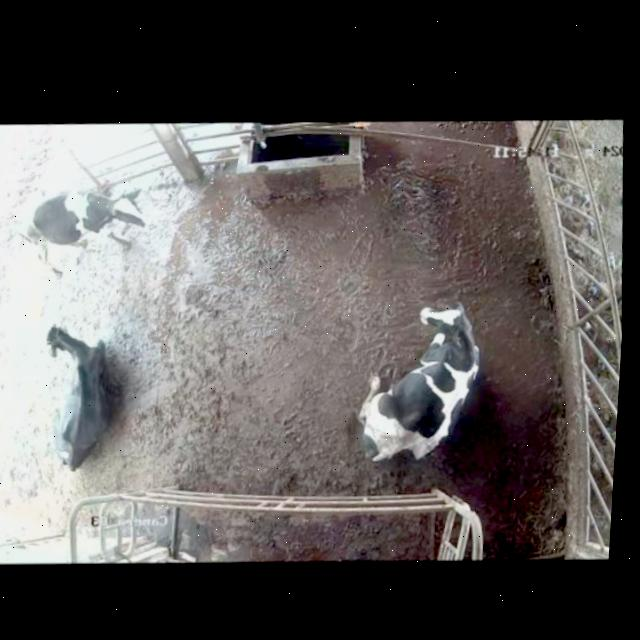lay: (321, 285, 497, 486), (17, 316, 129, 489)
stand: (5, 166, 153, 294)
